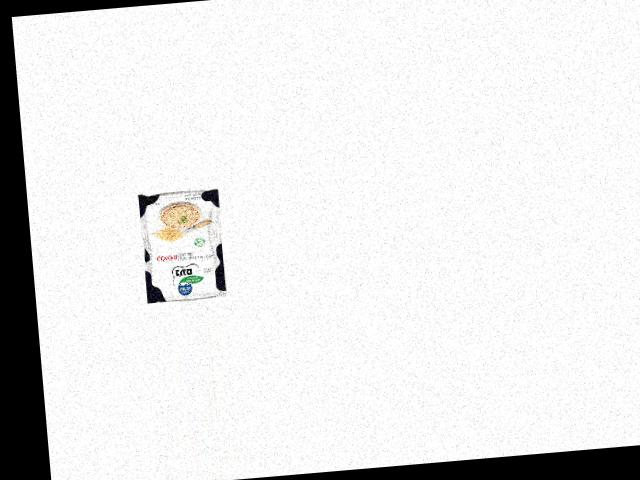cheese: (135, 185, 228, 304)
